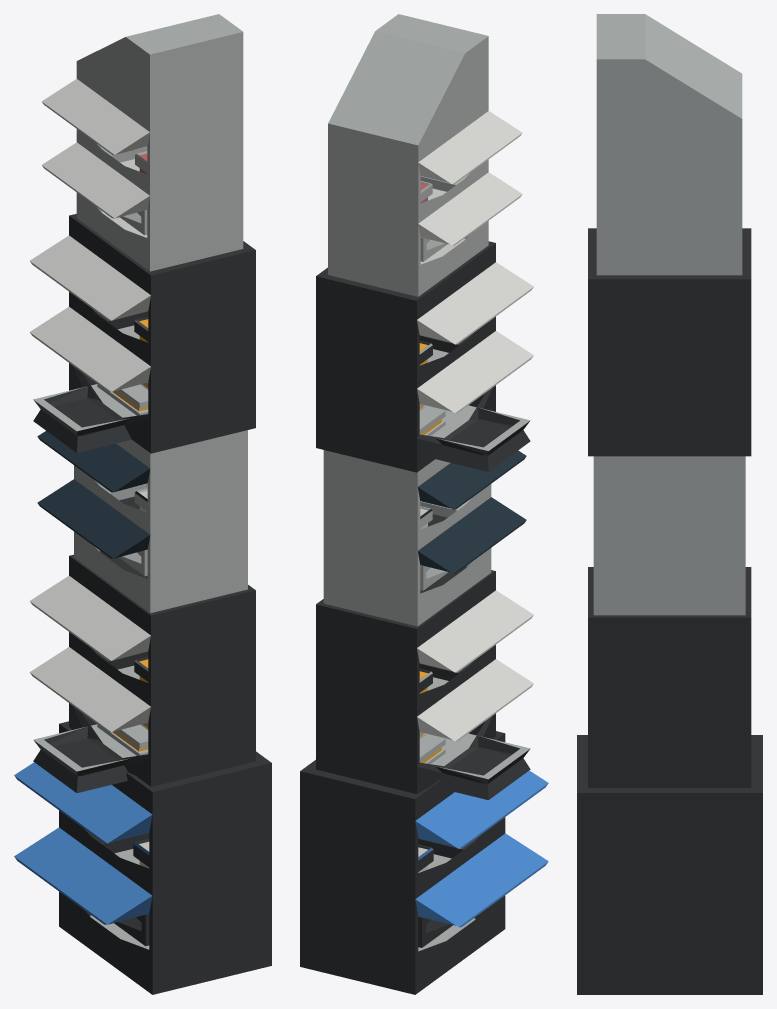
The model's file is BuildingStack3.fbx.
3 views of the same model, side by side, from view 1: azimuth 30°, elevation 25°; view 2: azimuth 150°, elevation 25°; view 3: azimuth 270°, elevation 25° (orthographic). The views are drawn at different scales.
Parts seen in each view (by area): view 1: Cube.193, Cube.197, Cube.195, Cube.194, Cube.196; view 2: Cube.193, Cube.195, Cube.197, Cube.194, Cube.196; view 3: Cube.193, Cube.195, Cube.197, Cube.194, Cube.196.
Boxes of the visible parts, <box> form: Cube.193: <box>14,721,271,994</box>; Cube.197: <box>30,214,255,453</box>; Cube.195: <box>42,14,243,271</box>; Cube.194: <box>29,554,255,792</box>; Cube.196: <box>37,430,247,613</box>; Cube.193: <box>300,731,548,994</box>; Cube.195: <box>328,14,522,296</box>; Cube.197: <box>316,241,533,472</box>; Cube.194: <box>316,570,533,799</box>; Cube.196: <box>323,450,526,626</box>; Cube.193: <box>577,735,762,994</box>; Cube.195: <box>596,14,742,275</box>; Cube.197: <box>588,228,751,456</box>; Cube.194: <box>588,567,751,787</box>; Cube.196: <box>593,456,745,615</box>.
Bounding box in the file's own units: 859 × 4489 × 816.
